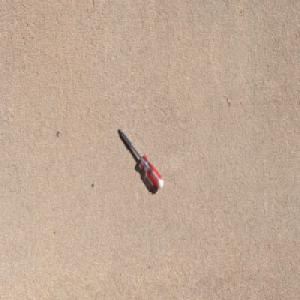Screwdriver: (117, 125, 164, 191)
